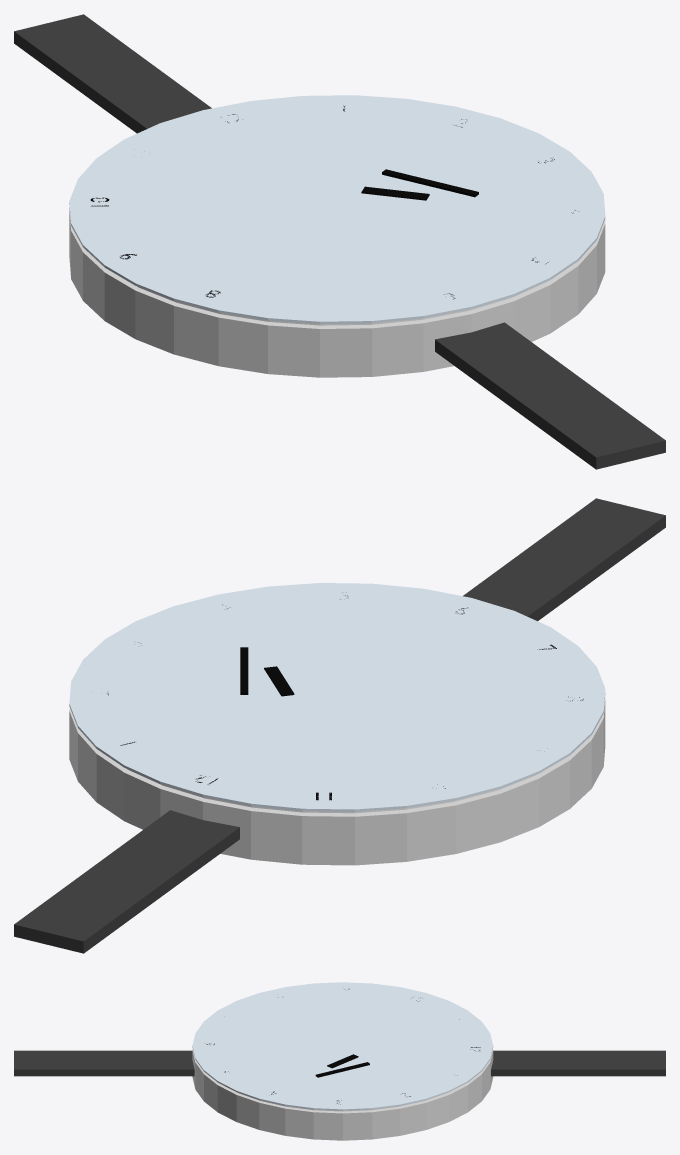
File: Clock.glb
The picture shows the model from 3 angles, top to bottom: view 1: azimuth 30°, elevation 25°; view 2: azimuth 150°, elevation 25°; view 3: azimuth 270°, elevation 25°; orthographic projection. The views are drawn at different scales.
Parts seen in each view (by area): view 1: Watch_Glass, Watch_Body, Strap_Bottom, Strap_Top, Watch_Face, Minute_Hand; view 2: Watch_Glass, Watch_Body, Strap_Top, Strap_Bottom, Watch_Face; view 3: Watch_Glass, Watch_Body, Strap_Bottom, Strap_Top, Watch_Face.
Part boxes in pixels (x1,y1,x2,y2): Watch_Glass: (69,95,605,324); Watch_Body: (69,208,605,377); Strap_Bottom: (435,322,665,469); Strap_Top: (14,14,211,133); Watch_Face: (137,282,545,325); Minute_Hand: (382,169,478,197); Watch_Glass: (69,583,605,811); Watch_Body: (69,695,605,865); Strap_Top: (14,810,239,953); Strap_Bottom: (463,498,665,621); Watch_Face: (128,769,537,813); Watch_Glass: (192,982,493,1110); Watch_Body: (192,1049,493,1140); Strap_Bottom: (14,1050,194,1076); Strap_Top: (491,1050,665,1076); Watch_Face: (237,1085,462,1111).
Size of the model in its own units: 2 by 0.245 by 4.33.
